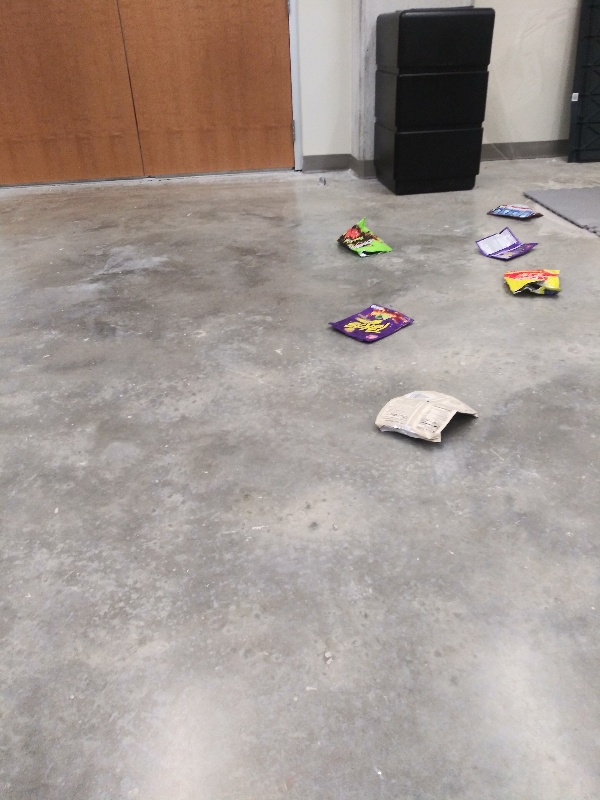bag: (366, 385, 485, 449), (322, 300, 423, 348), (333, 214, 399, 263), (468, 223, 544, 262), (494, 265, 568, 301), (481, 201, 552, 222)
